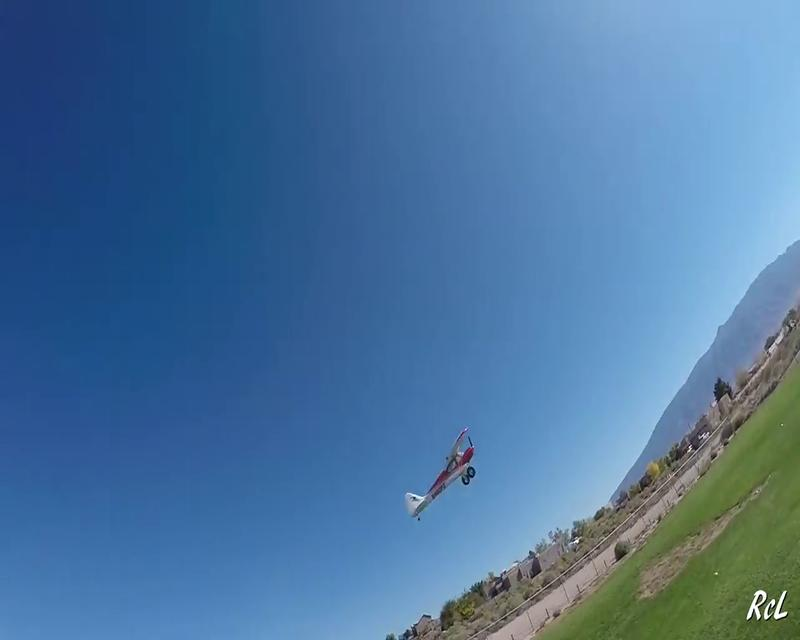UAV: (405, 427, 476, 522)
